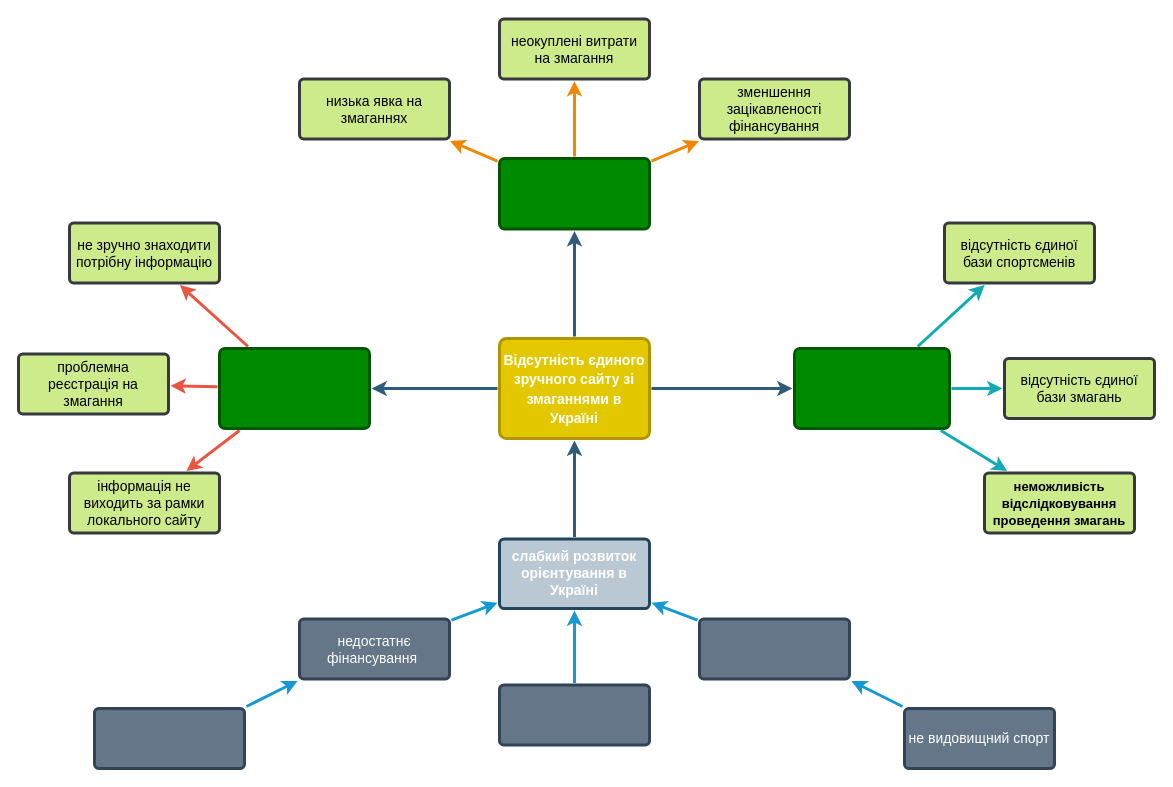
Some shapes in this 1173 by 787 pixel diagram are drawn without their labels. The centre of each missing label's shape, as x and y in pixels:
відсутність зацікавленості ЗМІ: the point at 774,648
нагромадження локальних сайтів: the point at 294,388
неможливість консолідації даних про змагання в масштабах країни: the point at 871,388
нестача тренерів: the point at 574,714
складність у росповсюдженні інформації про змагання: the point at 574,193
спорт не є олімпійським: the point at 169,738
